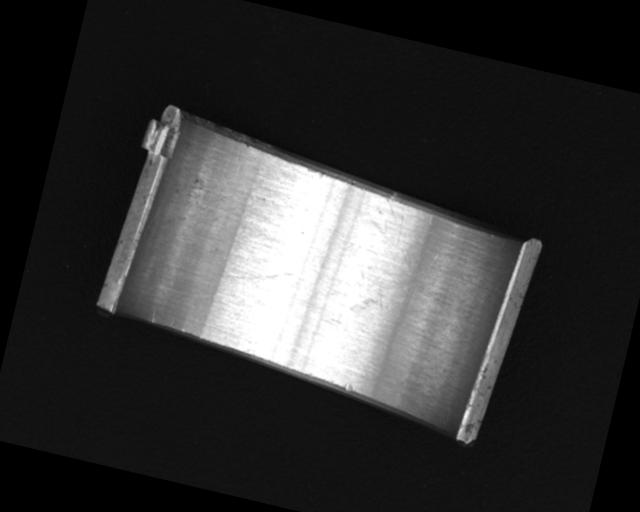blot: (346, 266, 411, 325)
bruise: (343, 382, 354, 392)
nick: (148, 308, 158, 324)
